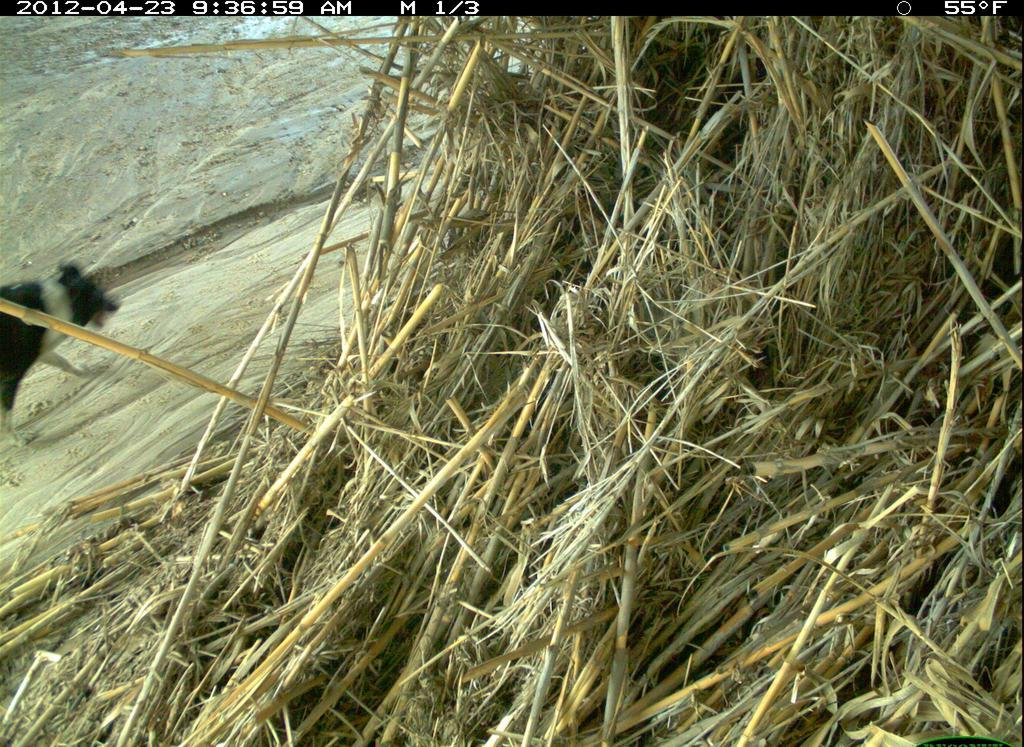dog: (2, 258, 126, 436)
